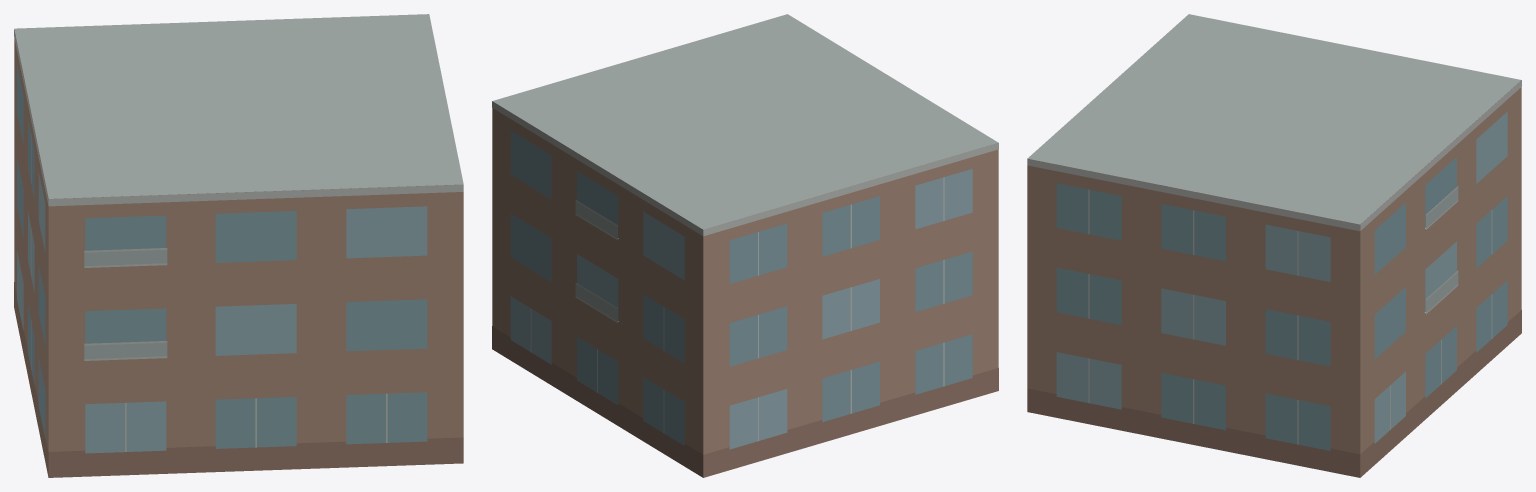
Rendered from survey-upis-32553104.glb.
The picture shows the model from 3 angles, left to right: view 1: azimuth 30°, elevation 25°; view 2: azimuth 150°, elevation 25°; view 3: azimuth 270°, elevation 25°; orthographic projection. The views are drawn at different scales.
Visible parts, largest first — view 1: survey-upis-32553104.tmp; view 2: survey-upis-32553104.tmp; view 3: survey-upis-32553104.tmp.
Boxes of the visible parts, left/top/right/bottom form: survey-upis-32553104.tmp: left=14, top=14, right=463, bottom=477; survey-upis-32553104.tmp: left=492, top=14, right=998, bottom=477; survey-upis-32553104.tmp: left=1027, top=14, right=1521, bottom=477.
Size of the model in its own units: 16.32 by 9.15 by 16.19.
